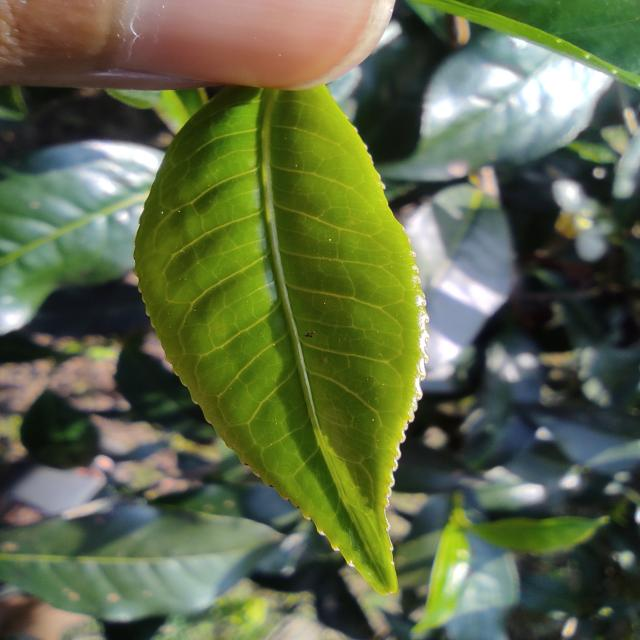Category B(2-4 days): (124, 66, 444, 600)
